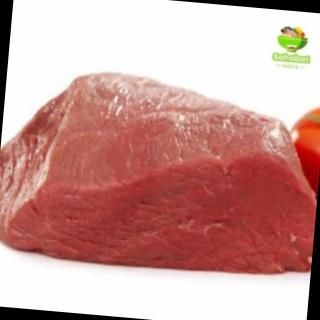Daging Sapi: (1, 63, 320, 283)
